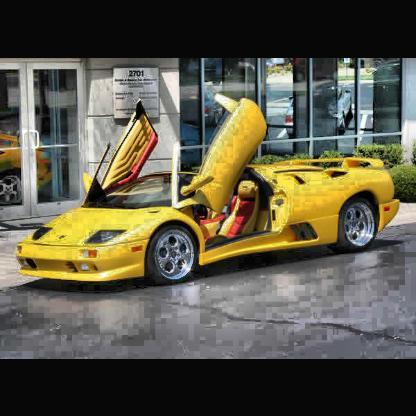Lamborghini Diablo Coupe 2001: (16, 91, 403, 296)
